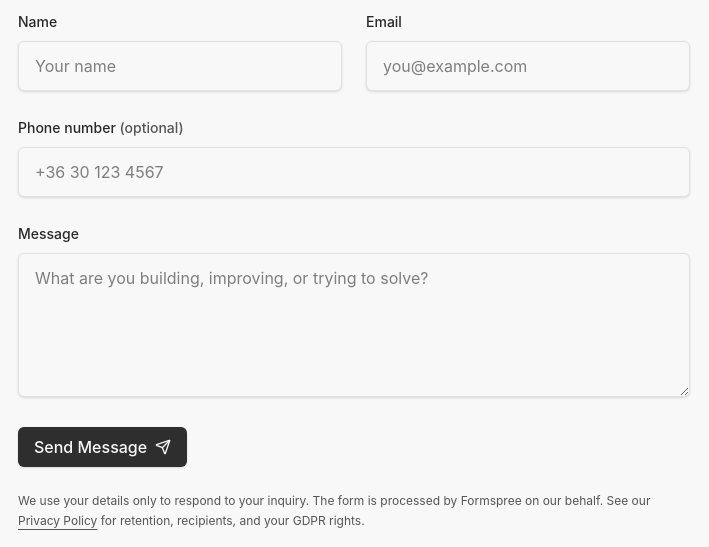
Test: ContactForm › shows a success message and tracks the submission on a successful send
Type "Ada Lovelace" into the field labelled "Name".
click(180, 66); type("Ada Lovelace")  # box x1=18 y1=41 x2=342 y2=91
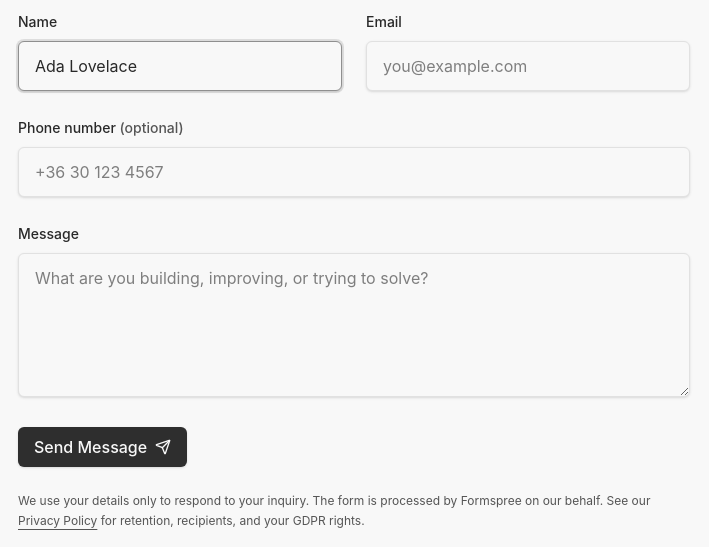
Type "ada@example.com" into the field labelled "Email".
click(528, 66); type("ada@example.com")  # box x1=366 y1=41 x2=690 y2=91
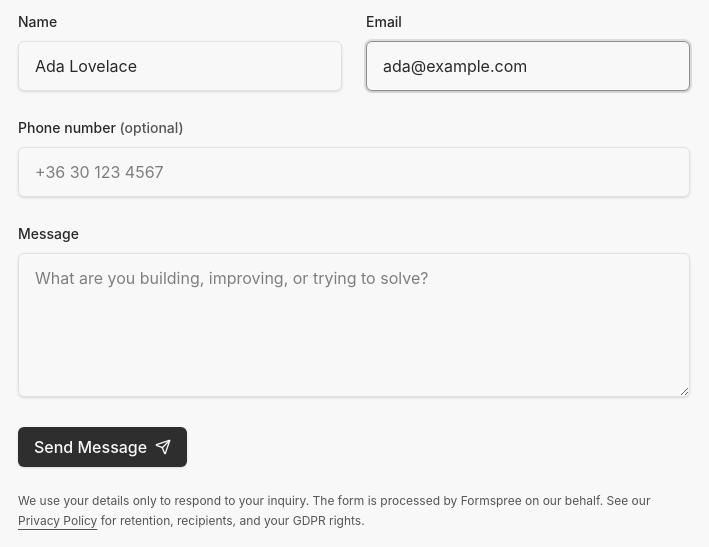
Type "We need a React audit." into the text box labelled "Message".
click(354, 325); type("We need a React audit.")  # box x1=18 y1=253 x2=690 y2=397
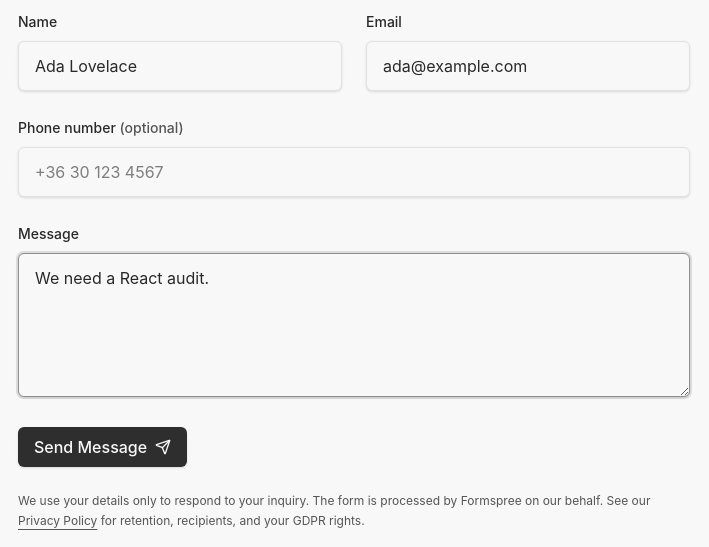
Click the button "Send Message".
click(103, 447)  # box x1=18 y1=427 x2=187 y2=467
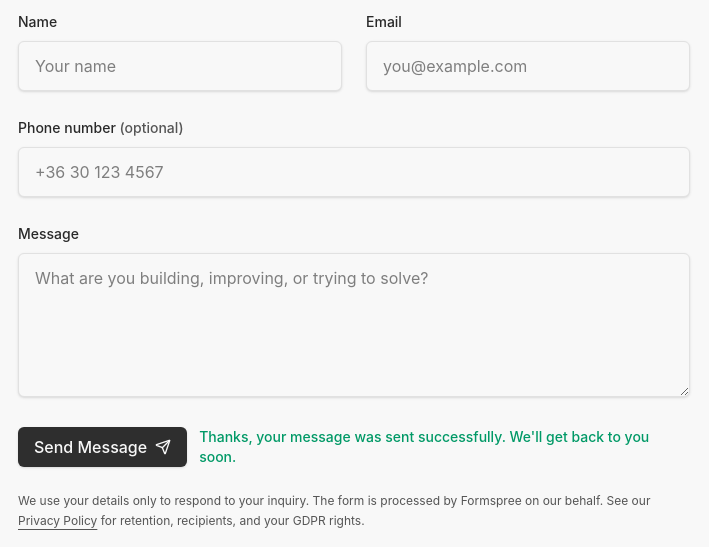
Now the text "your message was sent successfully" is shown, box x1=199 y1=428 x2=649 y2=465
